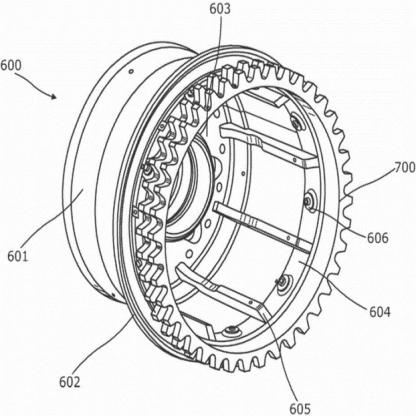FOD: (134, 57, 356, 376)
